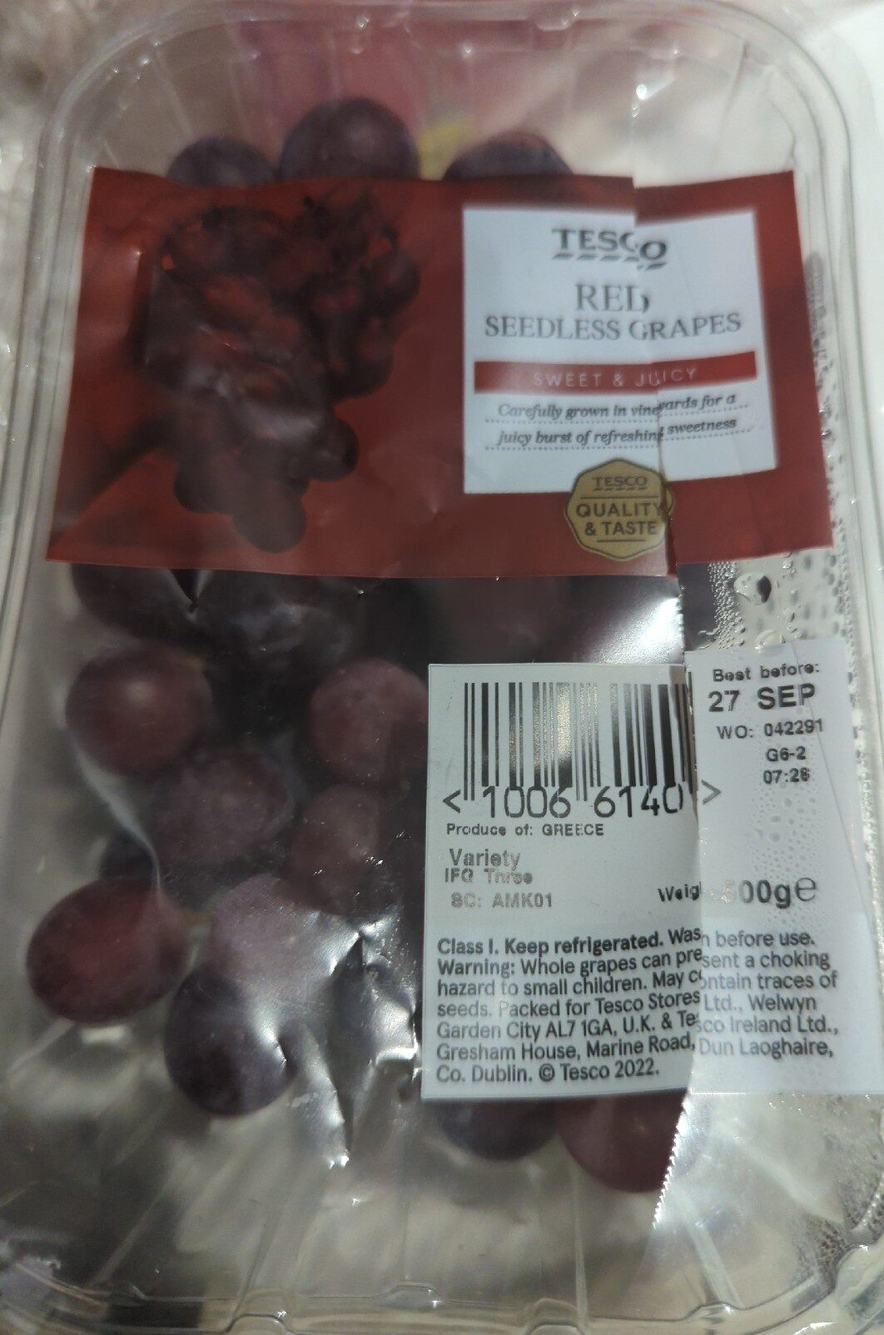RED SEEDLESS GRAPES: (44, 67, 840, 1268)
